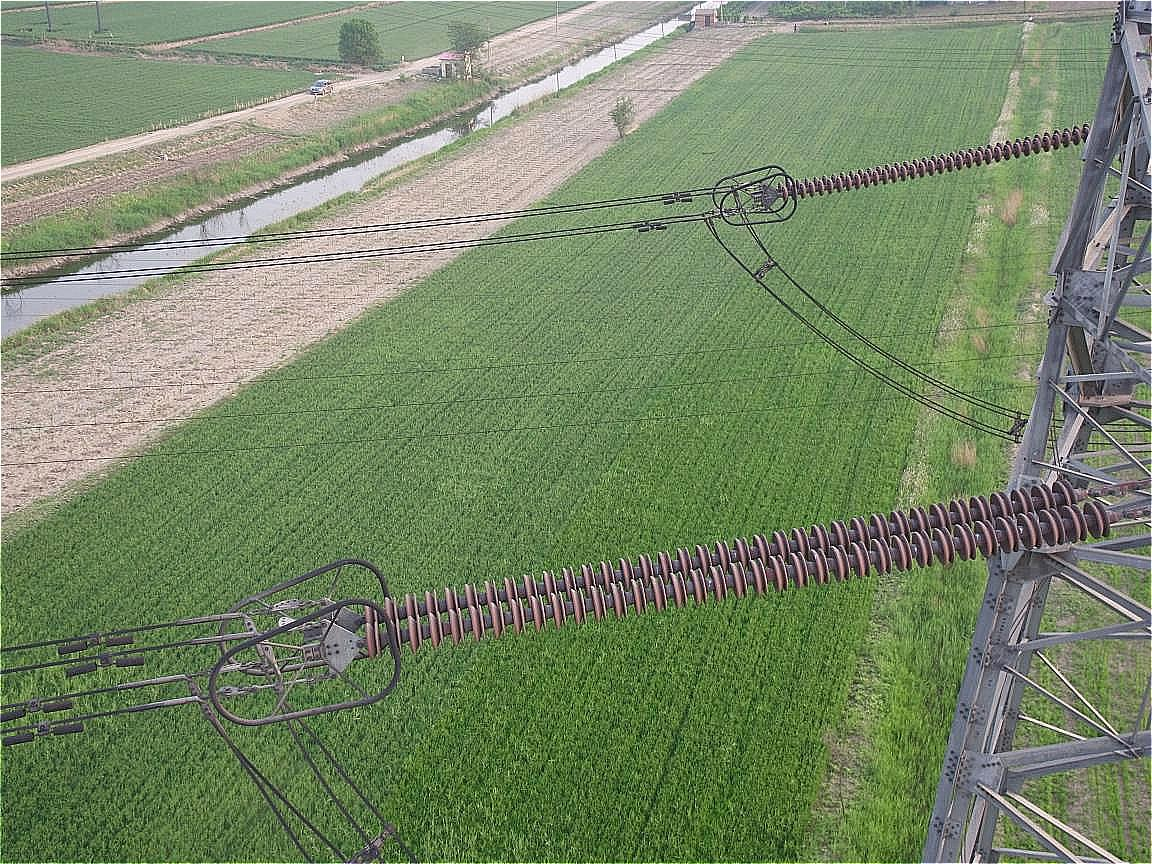insultor1: (336, 474, 1122, 668), (769, 119, 1112, 198)
